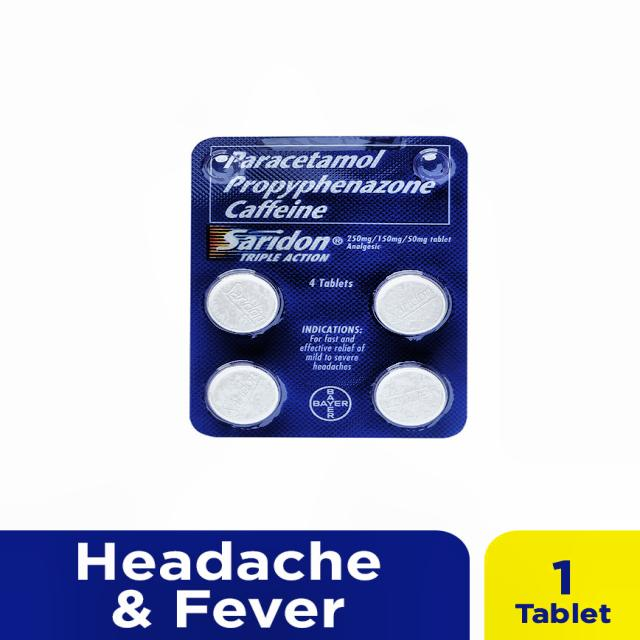Paracetamol: (196, 146, 455, 234)
